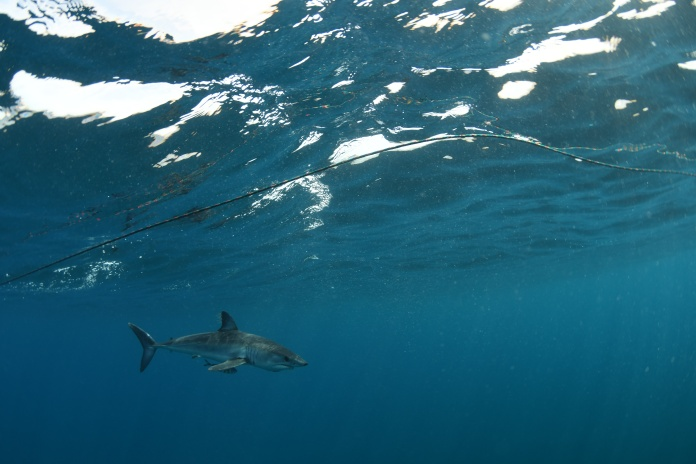Mako: (121, 307, 315, 386)
